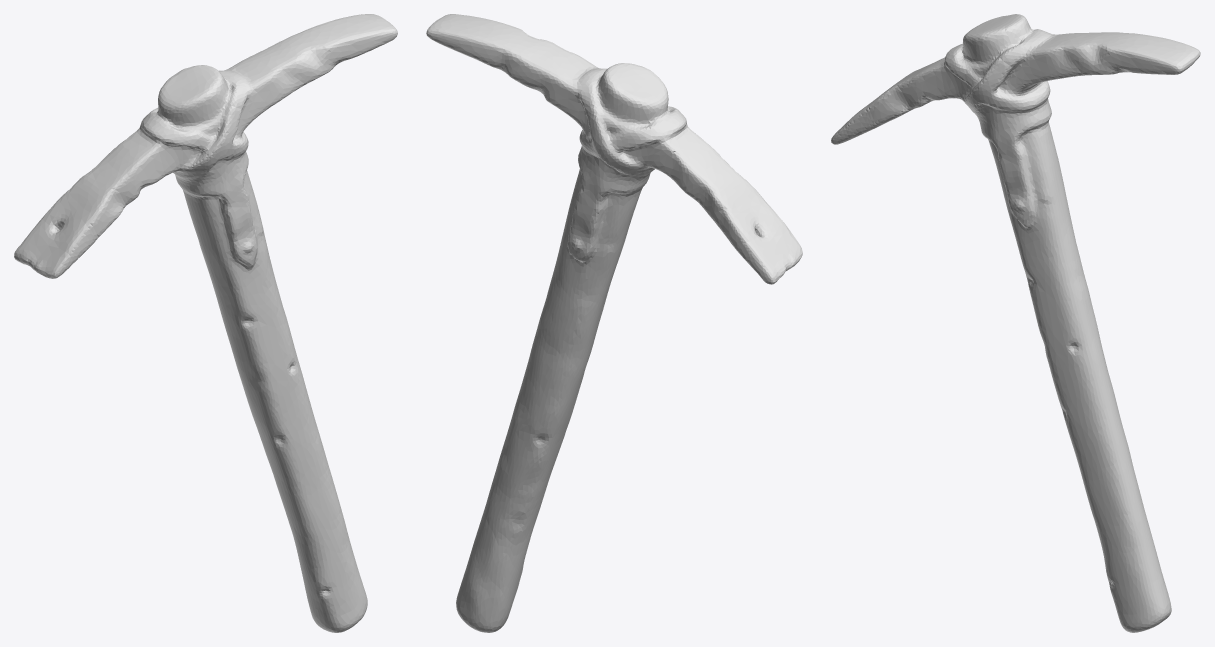
The model's file is mine_pickaxe.glb.
3 views of the same model, side by side, from view 1: azimuth 30°, elevation 25°; view 2: azimuth 150°, elevation 25°; view 3: azimuth 330°, elevation 25° (orthographic).
Parts seen in each view (by area): view 1: Low; view 2: Low; view 3: Low.
Boxes of the visible parts, left/top/right/bottom form: Low: left=14, top=14, right=397, bottom=632; Low: left=426, top=14, right=802, bottom=632; Low: left=831, top=14, right=1200, bottom=632.
Bounding box in the file's own units: 1.24 × 1.99 × 0.2908.
Materials: 1 (1 with a texture image).
